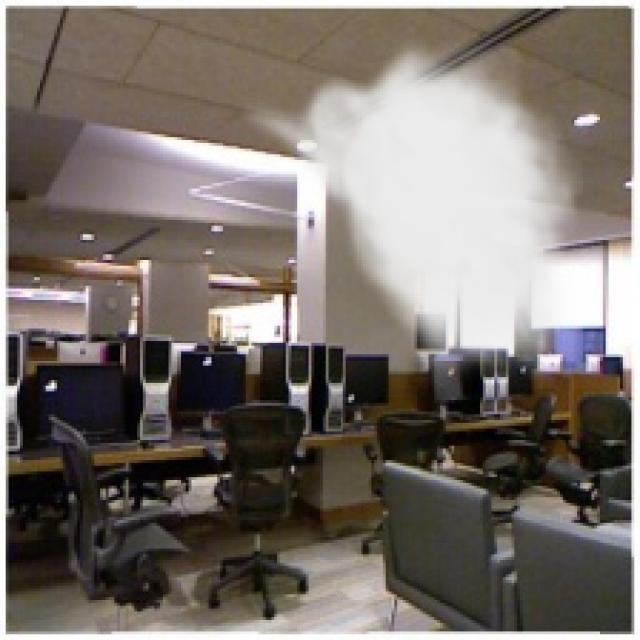Smoke: (237, 34, 586, 392)
